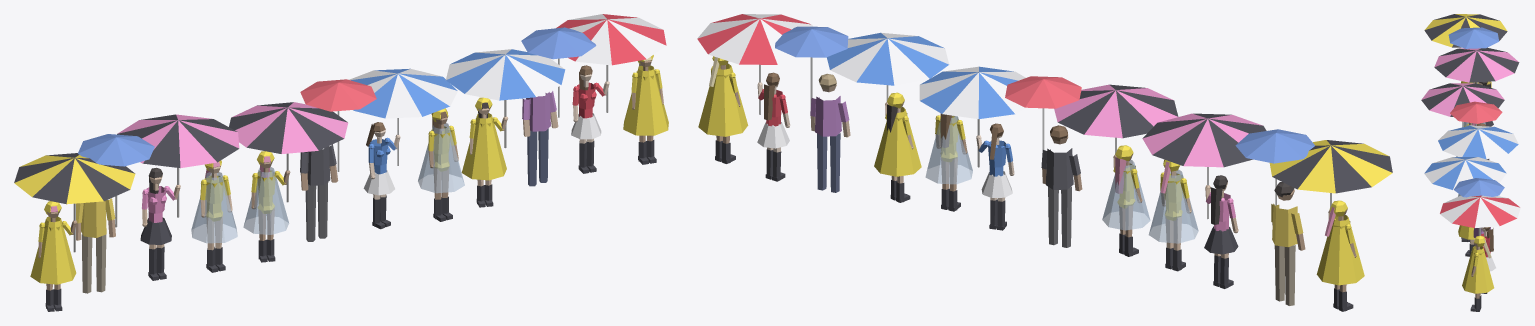
File: crowd_rain_row.glb
3 views of the same model, side by side, from view 1: azimuth 30°, elevation 25°; view 2: azimuth 150°, elevation 25°; view 3: azimuth 270°, elevation 25° (orthographic). The views are drawn at different scales.
Visible parts, largest first — view 1: crowd_rain_row; view 2: crowd_rain_row; view 3: crowd_rain_row.
Part boxes in pixels (x1,y1,x2,y2): crowd_rain_row: (14,14,668,311); crowd_rain_row: (697,14,1392,311); crowd_rain_row: (1421,14,1520,311).
Bounding box in the file's own units: 10.85 × 2.46 × 2.13.
